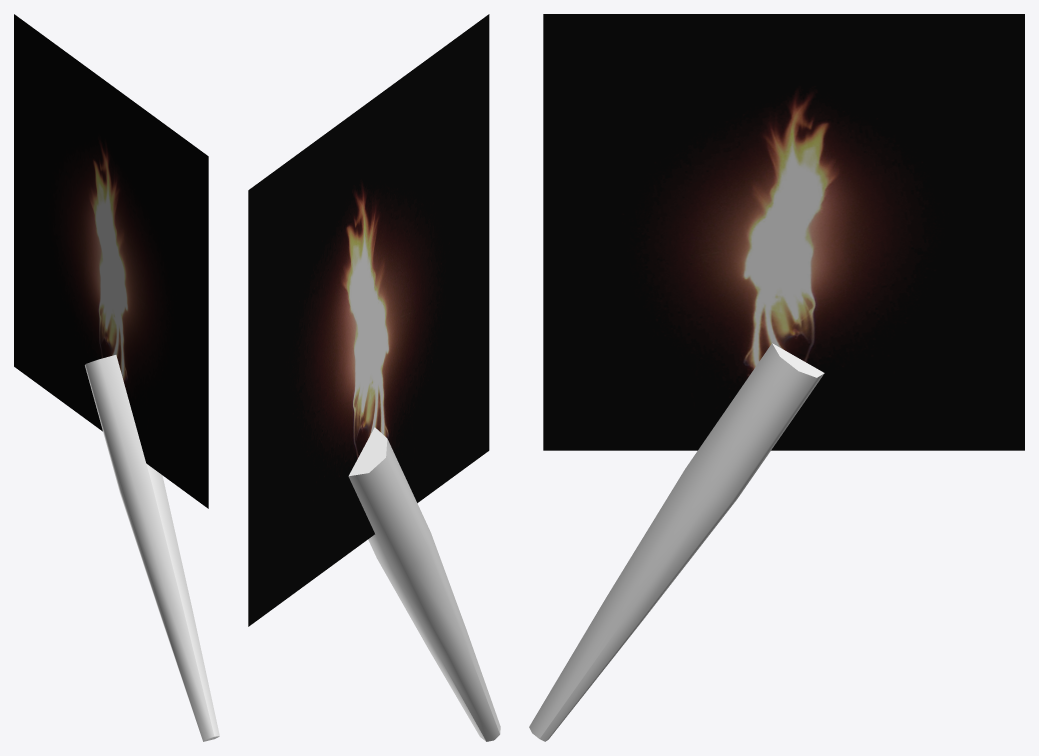
Rendered from torch_1.obj.
3 renders of one model, left to right at view 1: azimuth 30°, elevation 25°; view 2: azimuth 150°, elevation 25°; view 3: azimuth 270°, elevation 25°, orthographic. The views are drawn at different scales.
Parts seen in each view (by area): view 1: flame3, torch_base; view 2: flame3, torch_base; view 3: flame3, torch_base.
Boxes of the visible parts, x1=… form: flame3: x1=14, y1=14, x2=208, y2=508; torch_base: x1=85, y1=355, x2=219, y2=741; flame3: x1=248, y1=14, x2=489, y2=626; torch_base: x1=348, y1=427, x2=500, y2=741; flame3: x1=543, y1=14, x2=1024, y2=450; torch_base: x1=529, y1=343, x2=824, y2=741.
Size of the model in its own units: 2.45 by 33.25 by 20.59.
